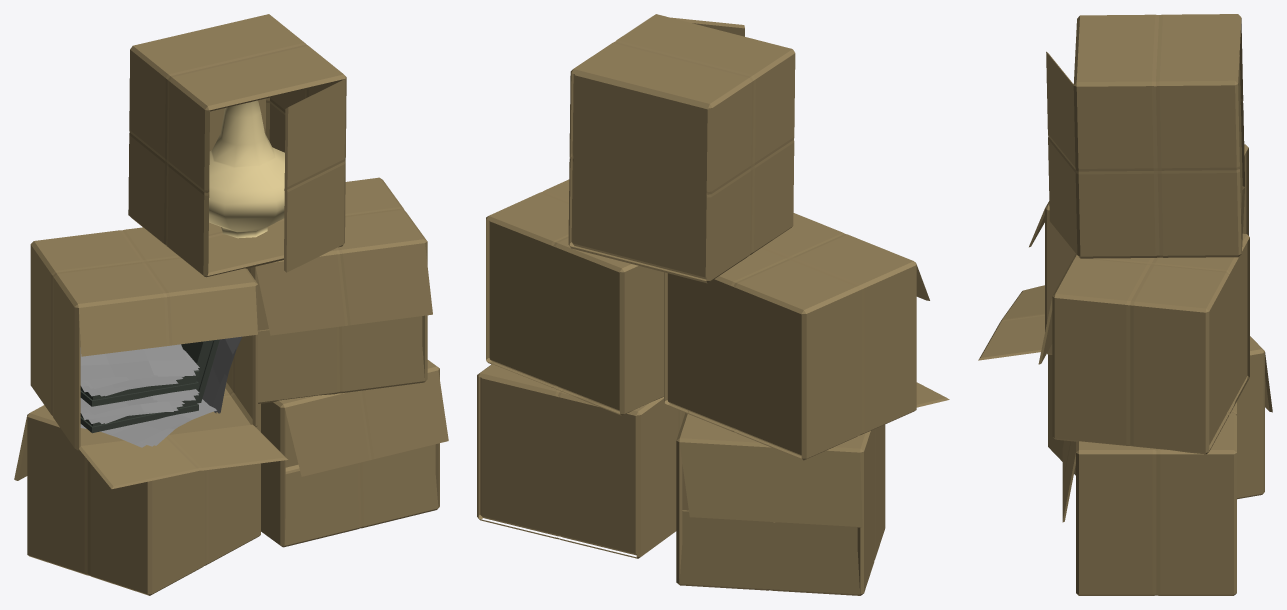
The model's file is High Boxes.fbx.
3 renders of one model, left to right at view 1: azimuth 30°, elevation 25°; view 2: azimuth 150°, elevation 25°; view 3: azimuth 270°, elevation 25°, orthographic. The views are drawn at different scales.
Visible parts, largest first — view 1: Yashiki_high; view 2: Yashiki_high; view 3: Yashiki_high.
Boxes of the visible parts, left/top/right/bottom form: Yashiki_high: left=14, top=14, right=448, bottom=595; Yashiki_high: left=477, top=14, right=949, bottom=595; Yashiki_high: left=978, top=14, right=1272, bottom=595.
Bounding box in the file's own units: 220 × 265 × 150.
